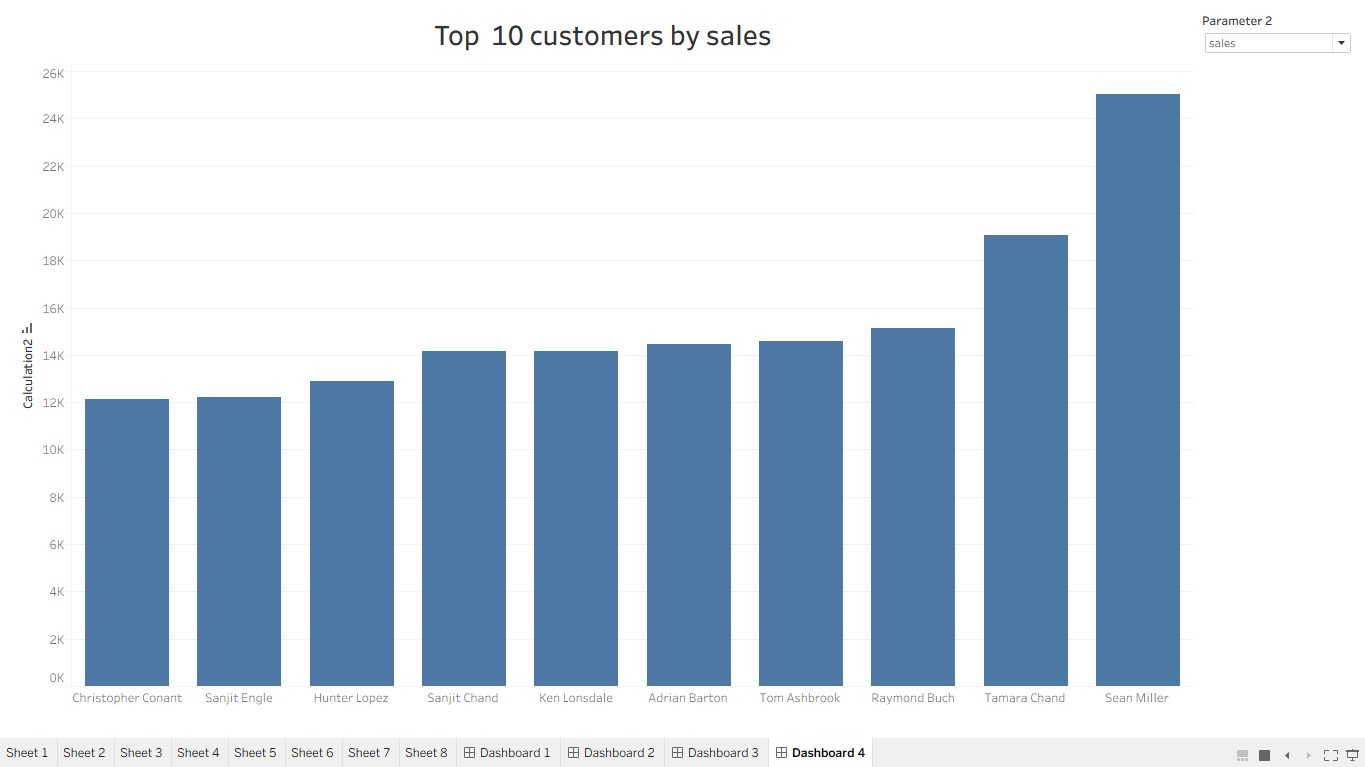

The page's visual inventory and layout, read from the dashboard file:
{"tool":"tableau","page":{"name":"Dashboard 4","canvas":[1000,1000],"units":"permille","ordinal":3},"visuals":[{"type":"worksheet","title":"Sheet 4","mark":"Automatic","rows":["Calculation_0630055270047747"],"cols":["Customer Name"],"box":[6.9,13.7,847.6,972.6]},{"type":"parameter","param":"[Parameters].[Parameter 0630055269834754]","box":[854.5,13.7,138.5,89]}]}

Visuals, with their boxes on the dashboard's canvas, which has no fixed pixel size, in thousandths of its width and height (x1, y1, x2, y2). These are canvas units, not pixel positions in the 1365x767 screenshot, which may show the page scaled, cropped or inside an application window:
"Sheet 4" worksheet: <box>7,14,854,986</box>
parameter: <box>854,14,993,103</box>
